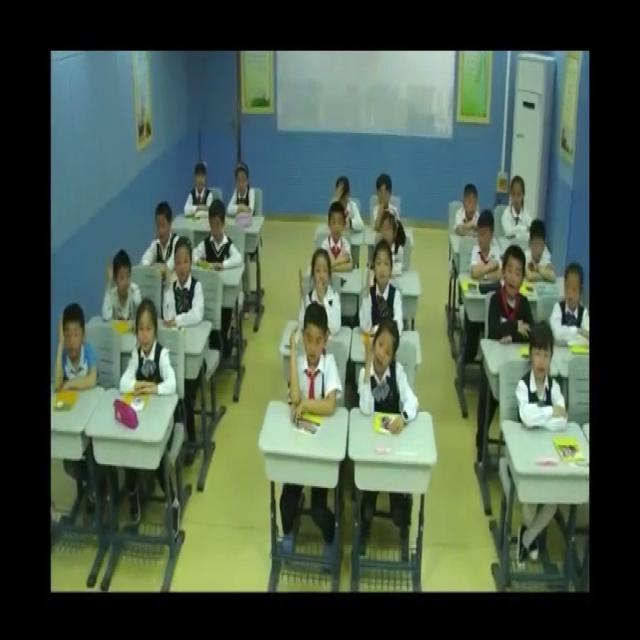focused: (118, 299, 180, 403), (519, 321, 567, 437), (486, 245, 534, 347), (190, 199, 245, 275), (551, 259, 593, 347), (140, 200, 188, 275), (468, 204, 505, 285), (318, 204, 352, 278), (374, 172, 412, 238), (523, 216, 556, 288), (376, 207, 408, 278), (333, 173, 368, 233), (228, 161, 258, 223), (502, 177, 530, 238), (184, 163, 213, 220), (455, 184, 485, 232)
raising_hand: (361, 319, 421, 436), (288, 306, 342, 428), (360, 238, 408, 344), (160, 232, 207, 332), (54, 299, 99, 400), (297, 248, 344, 343), (101, 243, 145, 322)
